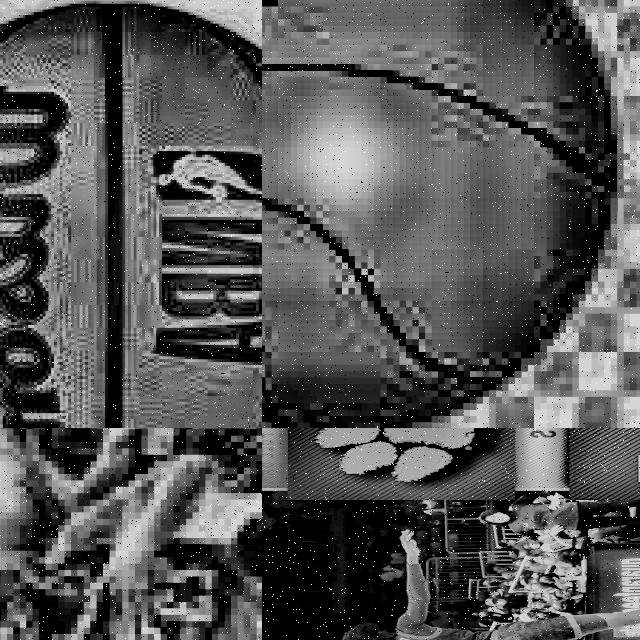Basketball: (262, 0, 617, 428), (0, 3, 262, 428)
